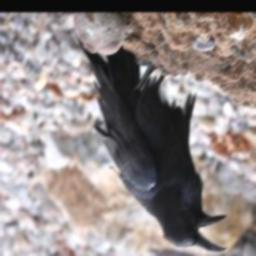Crow: (74, 35, 226, 252)
